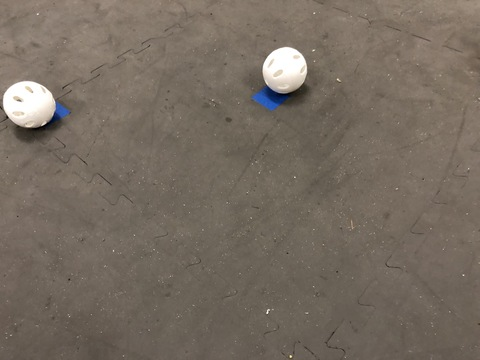ball: (247, 45, 324, 106), (2, 77, 69, 137)
